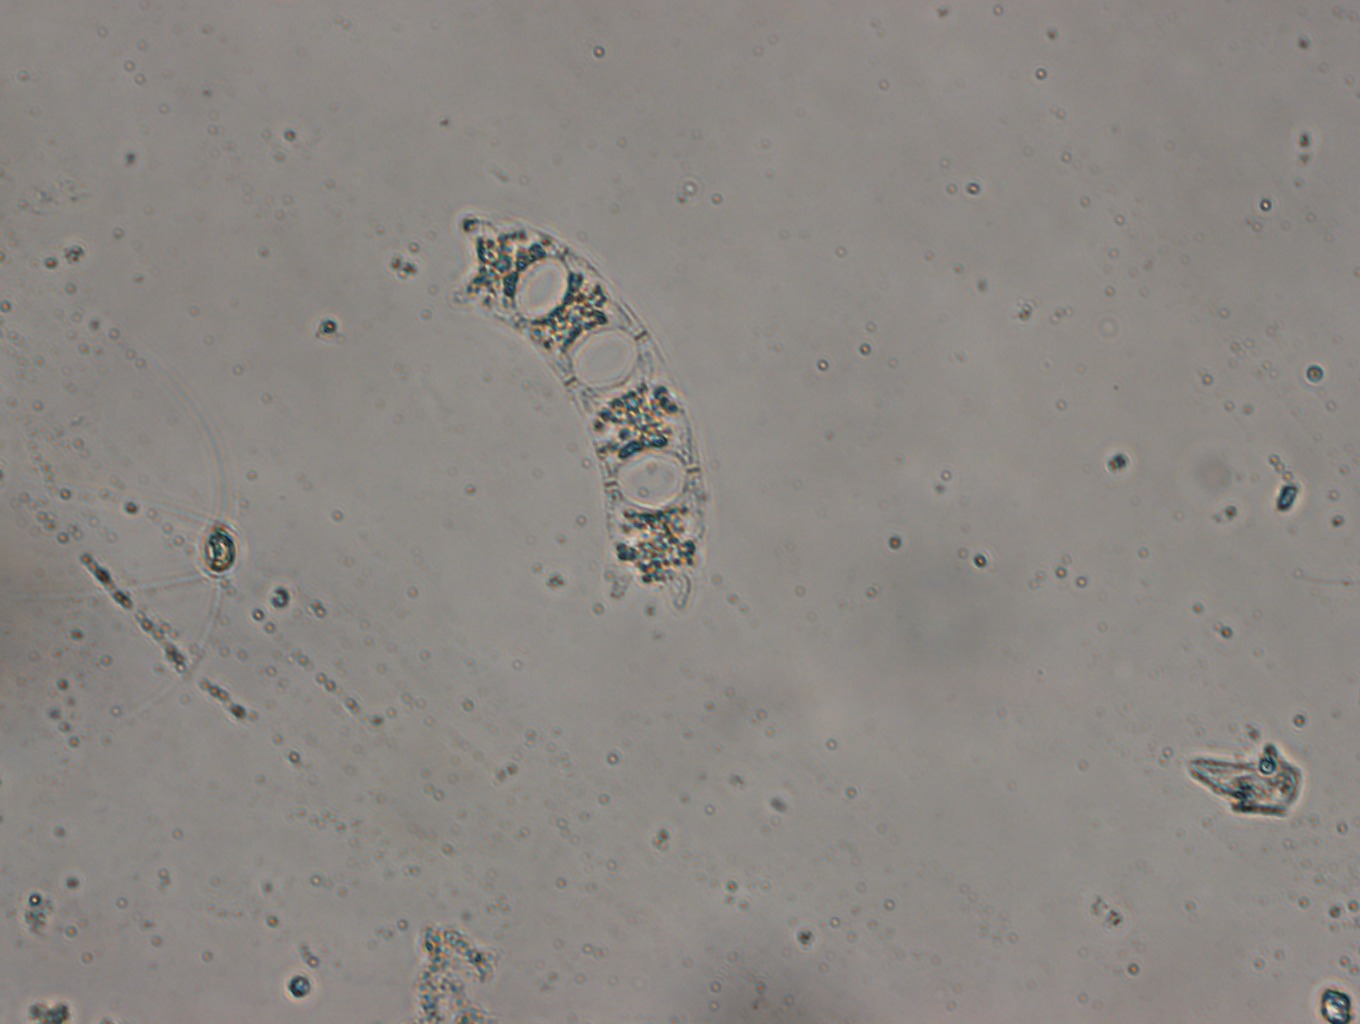eucampia: (444, 210, 702, 624)
